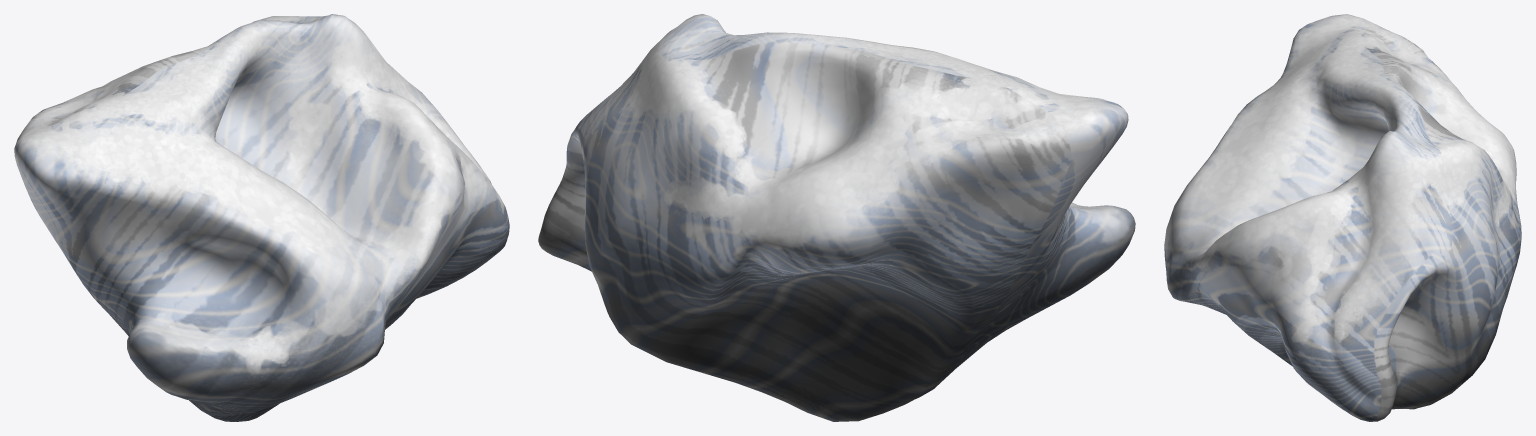
The model's file is Comet_Cracks.fbx.
The picture shows the model from 3 angles, left to right: view 1: azimuth 30°, elevation 25°; view 2: azimuth 150°, elevation 25°; view 3: azimuth 270°, elevation 25°; orthographic projection. The views are drawn at different scales.
Parts seen in each view (by area): view 1: Comet; view 2: Comet; view 3: Comet.
Boxes of the visible parts, x1,y1,x2,y2 form: Comet: [14, 14, 509, 421]; Comet: [538, 14, 1135, 421]; Comet: [1164, 14, 1521, 421].
Size of the model in its own units: 2988 by 2091 by 2117.
